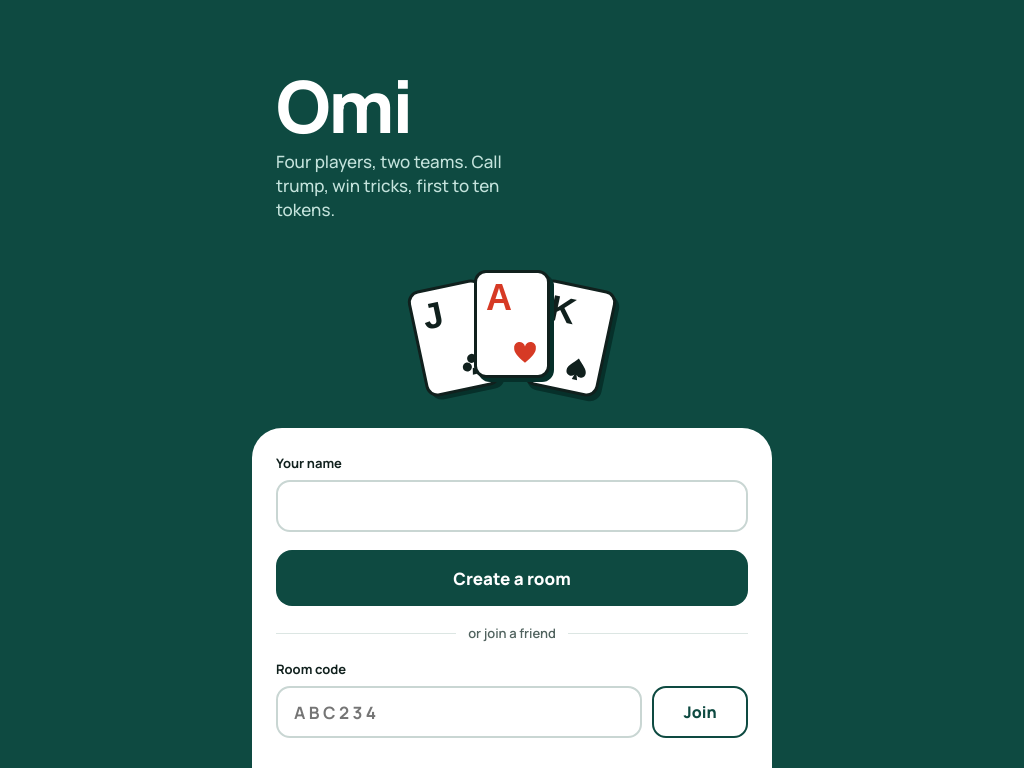
Test: from the home screen › creating a room leads to its lobby
Type "Ruwan" into the field labelled "Your name" at (512, 506), box [276,480,748,532]
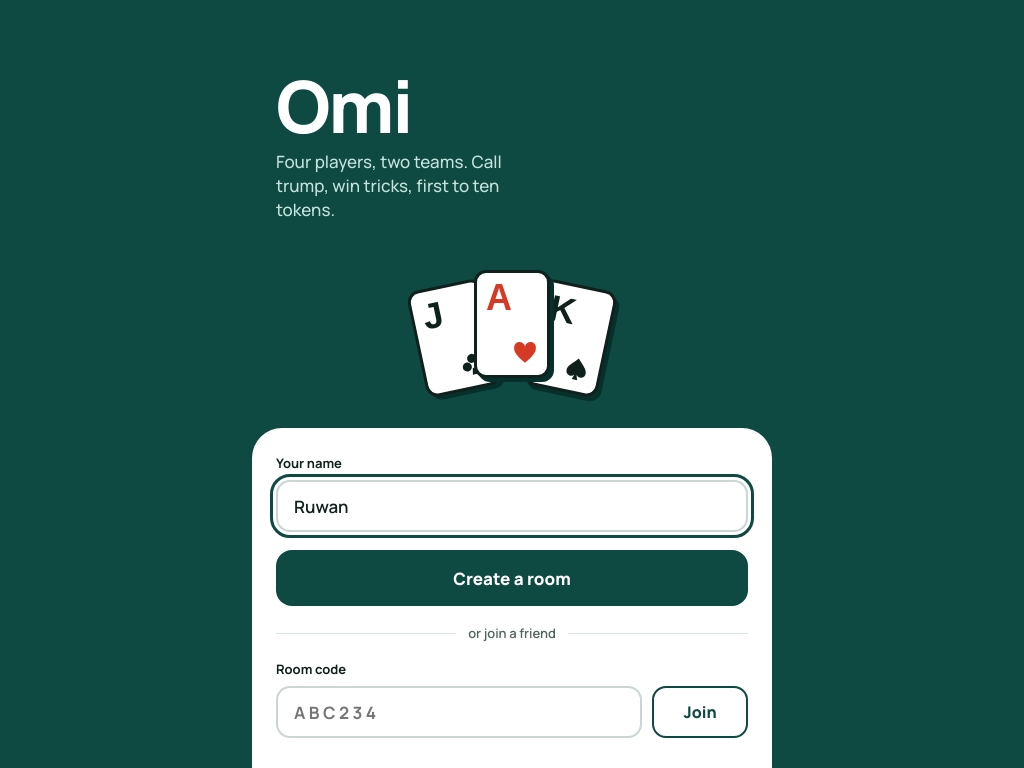
Click the button "Create a room" at (512, 578), box [276,550,748,606]
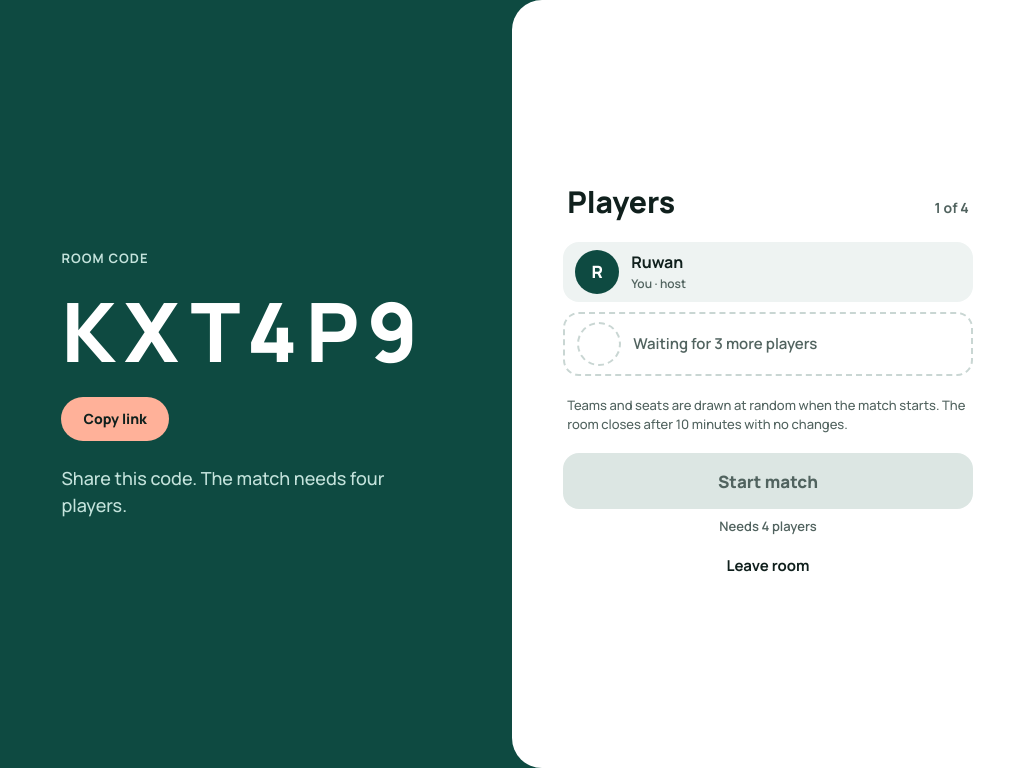
Check: the heading "Players" is shown, box [567,181,675,222]
